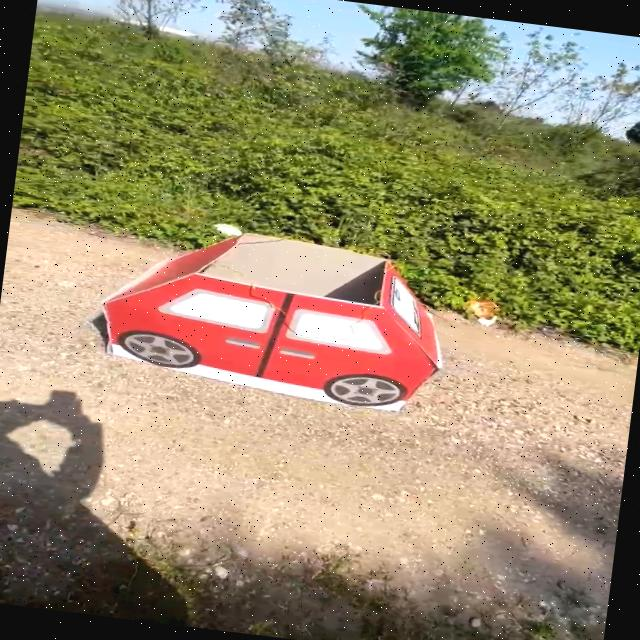red_car: (66, 206, 467, 438)
